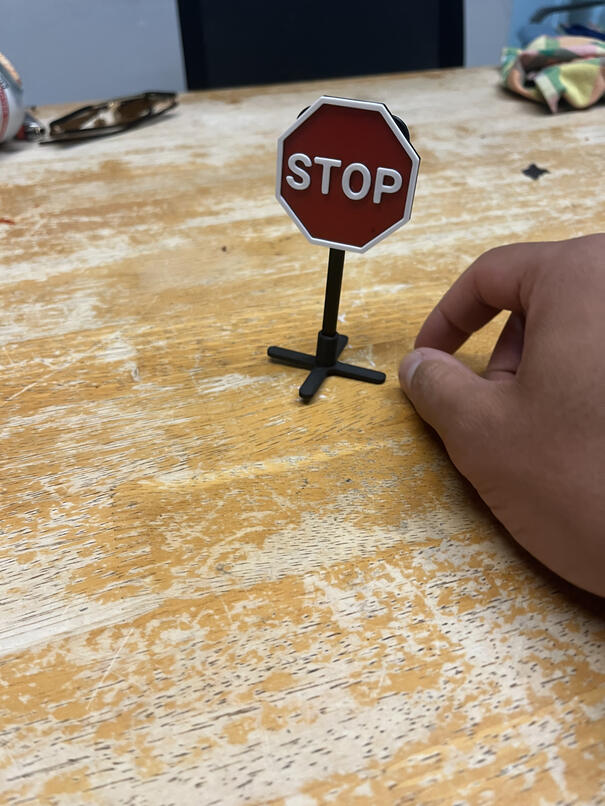sign_stop: (275, 91, 418, 252)
